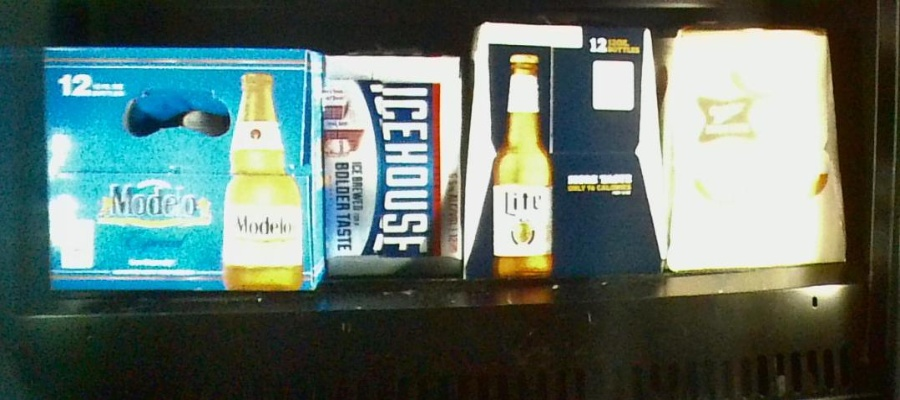bottle: (40, 46, 324, 294), (468, 20, 665, 275), (668, 24, 846, 268), (324, 46, 462, 279)
